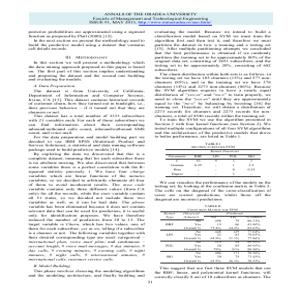table: (154, 207, 274, 265), (158, 142, 267, 177)
text: (22, 28, 149, 279), (152, 29, 274, 140), (153, 179, 275, 203), (154, 266, 274, 283), (87, 11, 214, 27)
